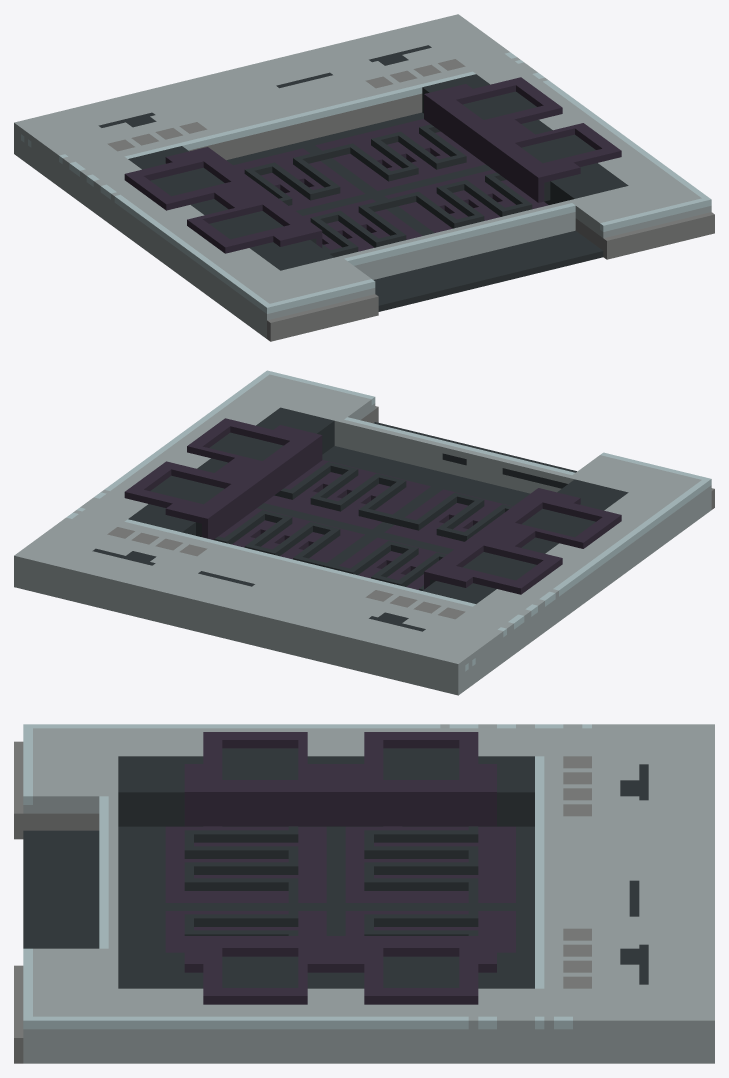
The model's file is box_shop_ui.obj.
The picture shows the model from 3 angles, top to bottom: view 1: azimuth 30°, elevation 25°; view 2: azimuth 150°, elevation 25°; view 3: azimuth 270°, elevation 25°; orthographic projection. The views are drawn at different scales.
Bounding box in the file's own units: 7.4 × 0.7 × 7.4.
Materials: 1 (1 with a texture image).
